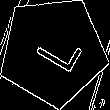L_NW: (24, 25, 82, 77)
